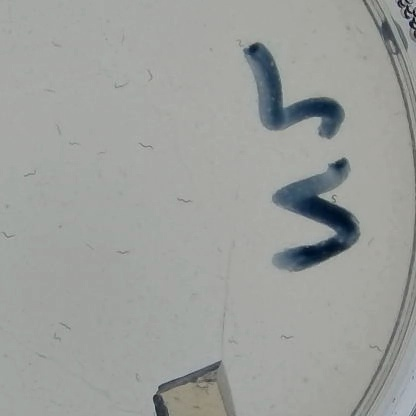worm: (134, 138, 157, 152), (0, 228, 21, 242), (17, 168, 45, 178), (172, 195, 196, 206), (49, 329, 66, 344), (143, 66, 156, 85), (115, 247, 134, 259), (80, 238, 95, 253), (39, 84, 57, 96), (47, 124, 68, 134), (111, 81, 131, 91), (56, 321, 74, 332), (130, 370, 145, 383), (117, 29, 128, 46), (365, 344, 385, 353), (279, 331, 297, 341), (34, 351, 50, 362), (226, 336, 241, 347), (64, 139, 82, 148), (50, 38, 63, 50), (235, 36, 246, 49), (94, 149, 109, 158)
